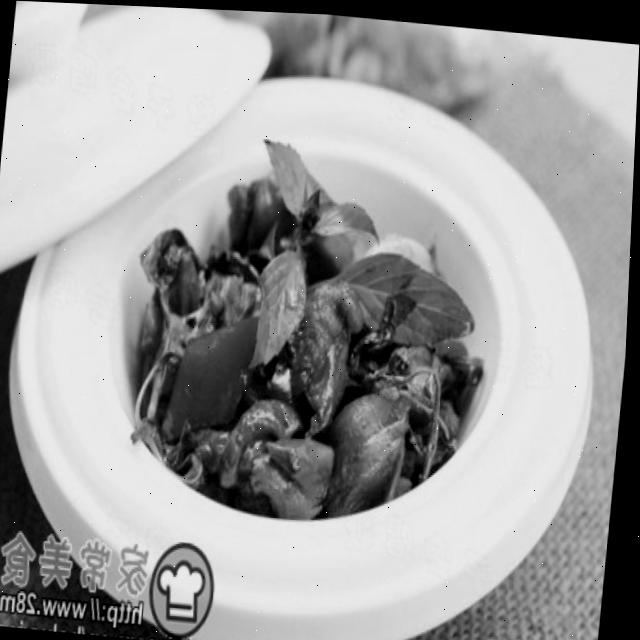鸡肉料理 含炸鸡: (34, 68, 579, 640)
